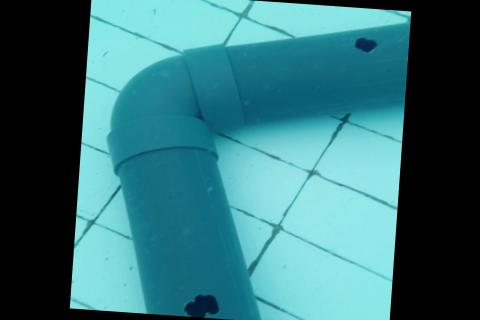kebocoran: (182, 290, 222, 319), (352, 35, 377, 53)
